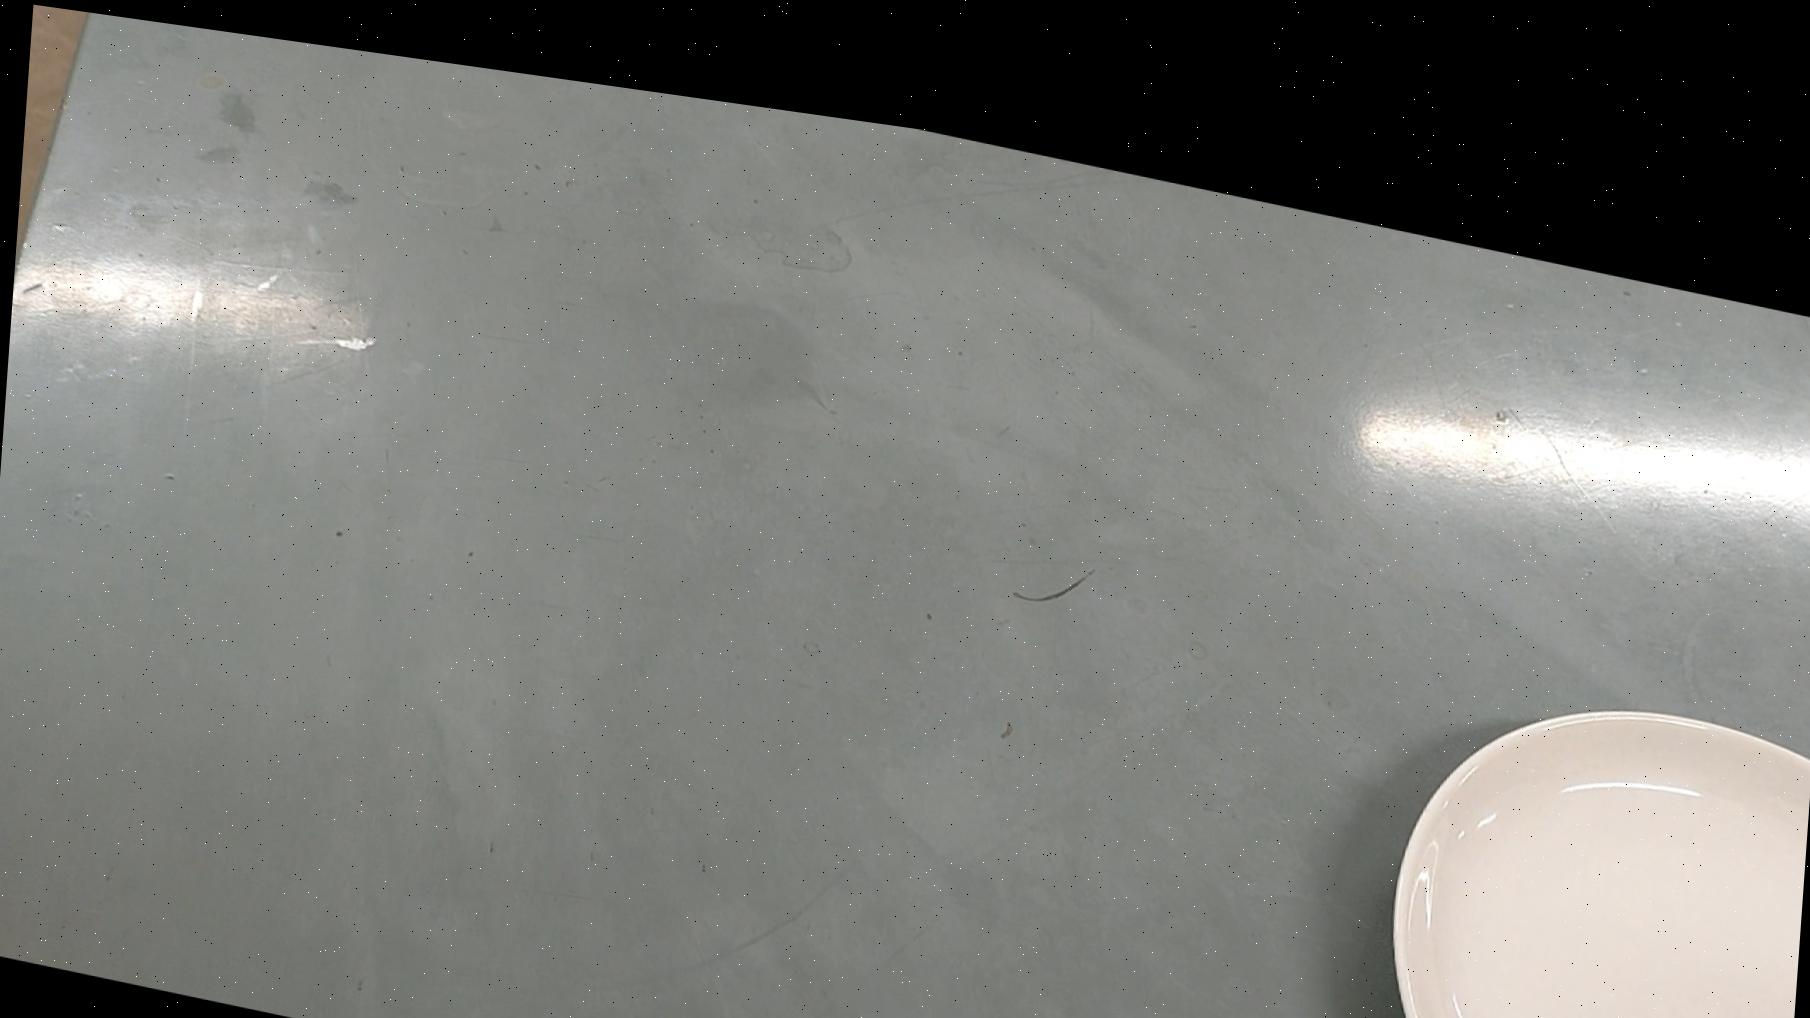plate: (1376, 614, 1810, 1018)
